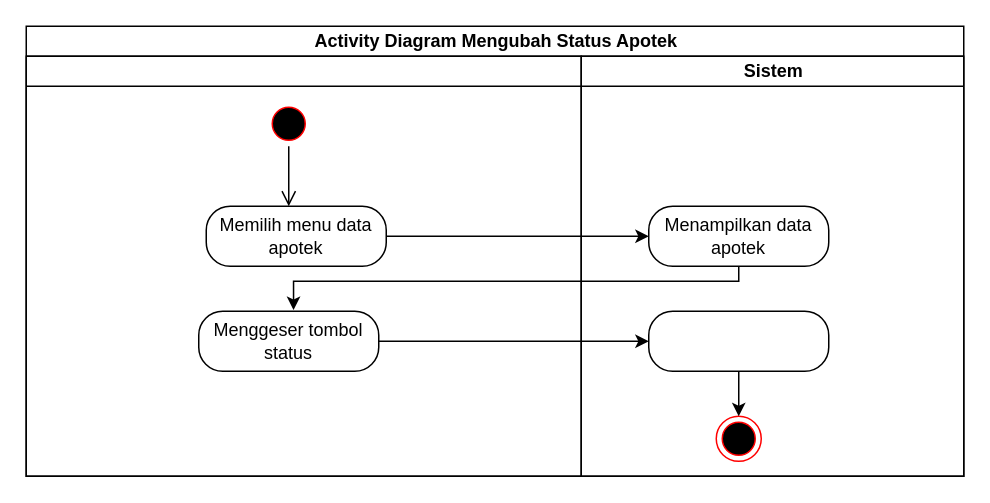
Some shapes in this 990 by 503 pixel diagram are drawn without their labels. The shapes that lost their labels are listed below. From the top down, each one's box as (x1, y1, x2, y2) in pixels, then its label:
(25, 55, 581, 476): Owner Apotek
(647, 310, 829, 371): Menyimpan perubahan status
